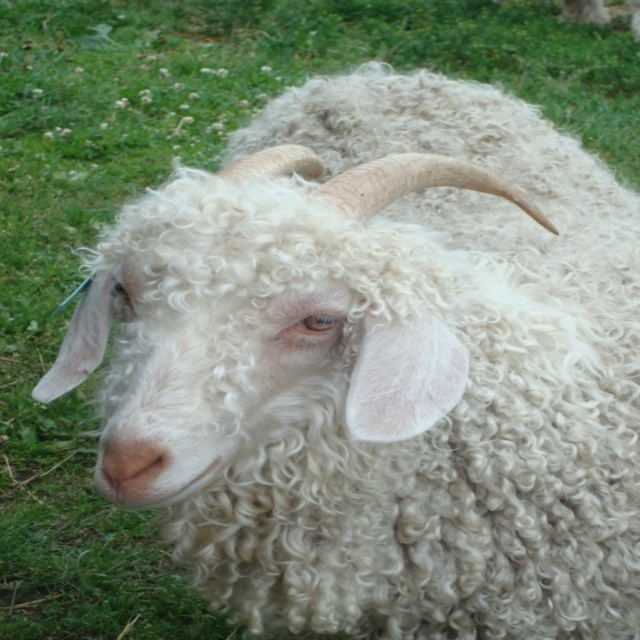Sheep: (34, 61, 639, 639)
